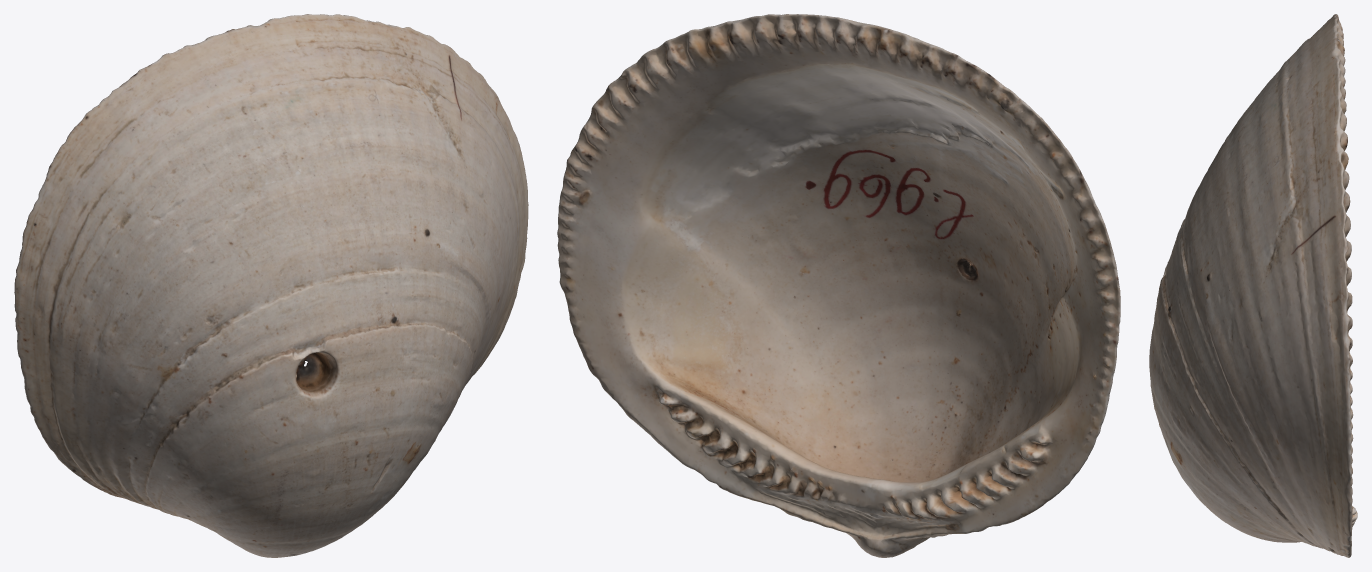
The model's file is EWS0014020.glb.
3 views of the same model, side by side, from view 1: azimuth 30°, elevation 25°; view 2: azimuth 150°, elevation 25°; view 3: azimuth 270°, elevation 25° (orthographic). The views are drawn at different scales.
Visible parts, largest first — view 1: input; view 2: input; view 3: input.
Boxes of the visible parts, <box> form: input: <box>14,14,528,557</box>; input: <box>557,14,1120,557</box>; input: <box>1149,14,1357,557</box>.
Bounding box in the file's own units: 0.0395 × 0.037 × 0.0143.
Materials: 1 (1 with a texture image).
